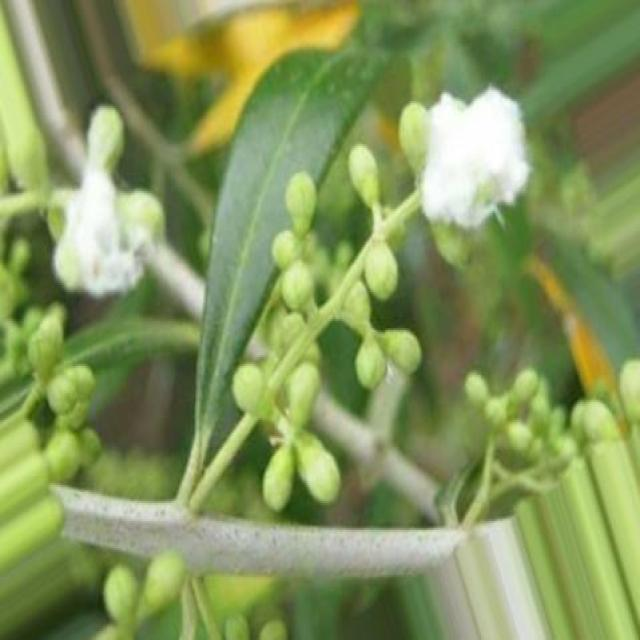Psyllid: (48, 106, 203, 317), (401, 87, 532, 238)
